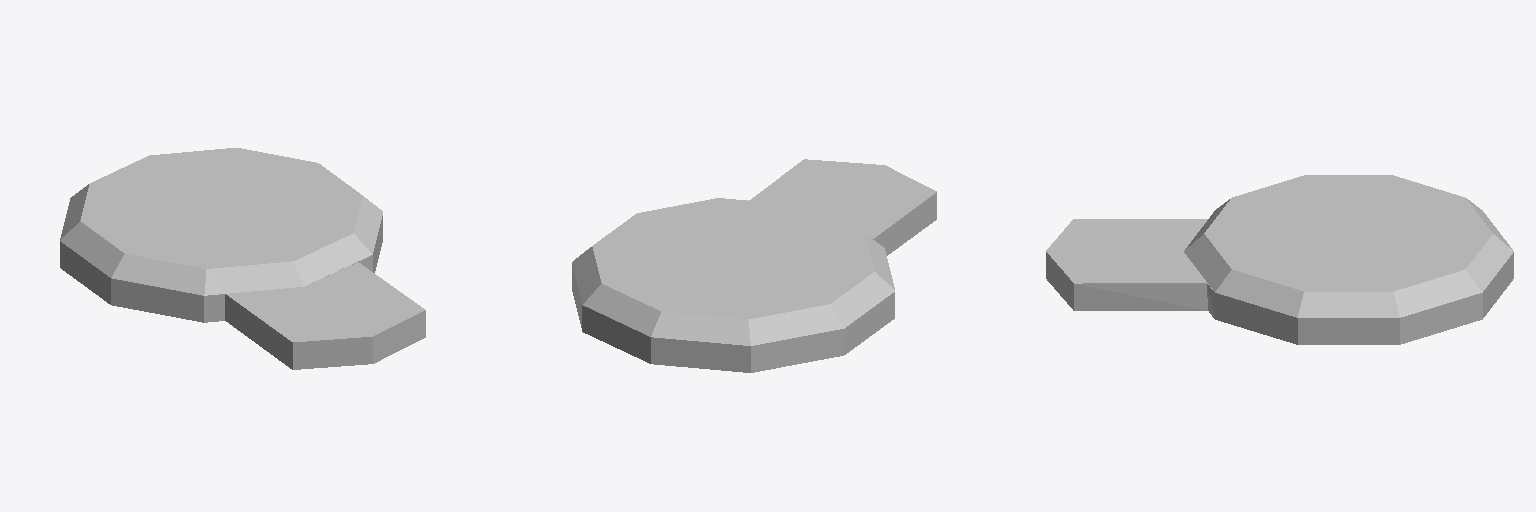
Rendered from ojito (1).obj.
The picture shows the model from 3 angles: view 1: azimuth 30°, elevation 25°; view 2: azimuth 150°, elevation 25°; view 3: azimuth 270°, elevation 25°; orthographic projection.
Parts seen in each view (by area): view 1: Ojo_Cylinder, Cilindro.001; view 2: Ojo_Cylinder, Cilindro.001; view 3: Ojo_Cylinder, Cilindro.001.
Part boxes in pixels (x1,y1,x2,y2): Ojo_Cylinder: (60, 148, 382, 322); Cilindro.001: (225, 262, 425, 369); Ojo_Cylinder: (572, 198, 894, 372); Cilindro.001: (749, 159, 936, 255); Ojo_Cylinder: (1184, 175, 1513, 344); Cilindro.001: (1046, 219, 1207, 310).
Size of the model in its own units: 1.9 by 0.3001 by 2.83.